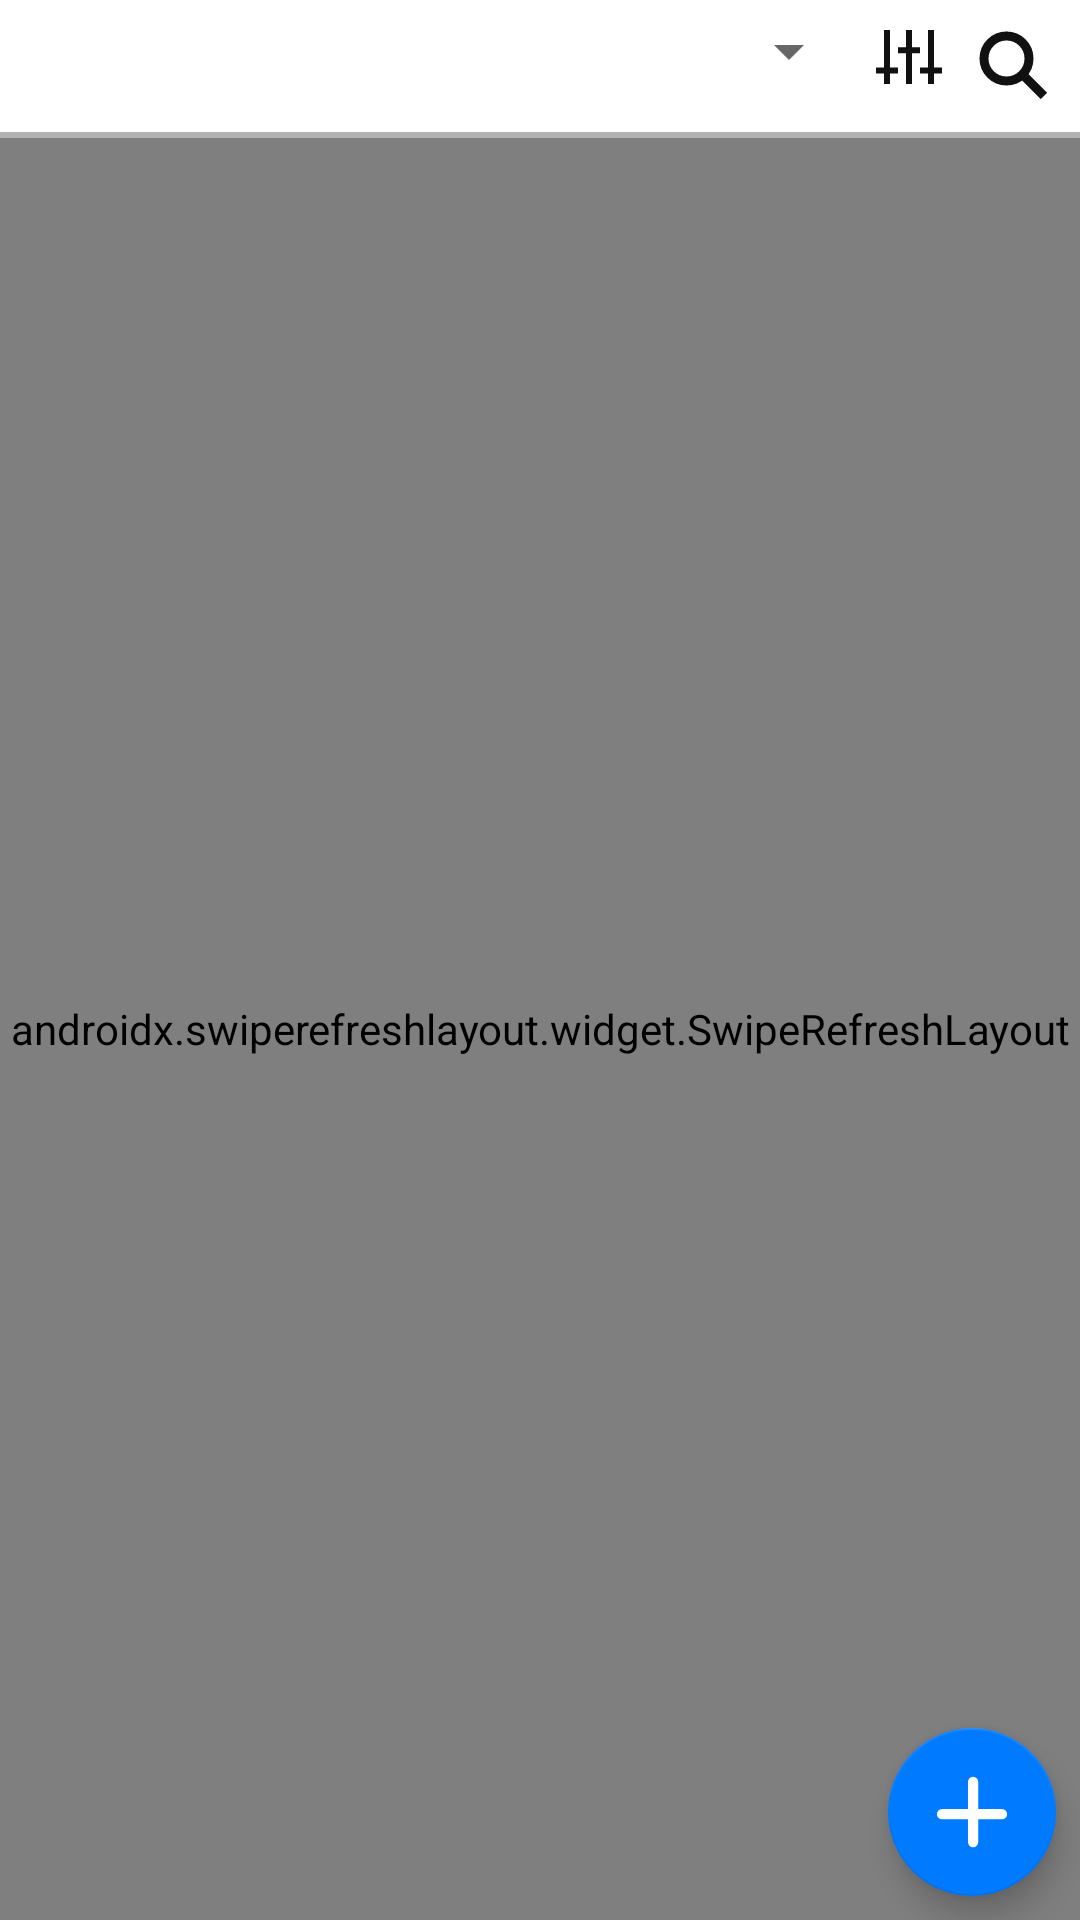

Named icons in this screenshot (1080x1920) and their bounding boxes, [x1,y1,x2,y2]:
add match: [888,1728,1056,1896]
home fillter: [876,30,942,84]
home search: [979,31,1047,99]
